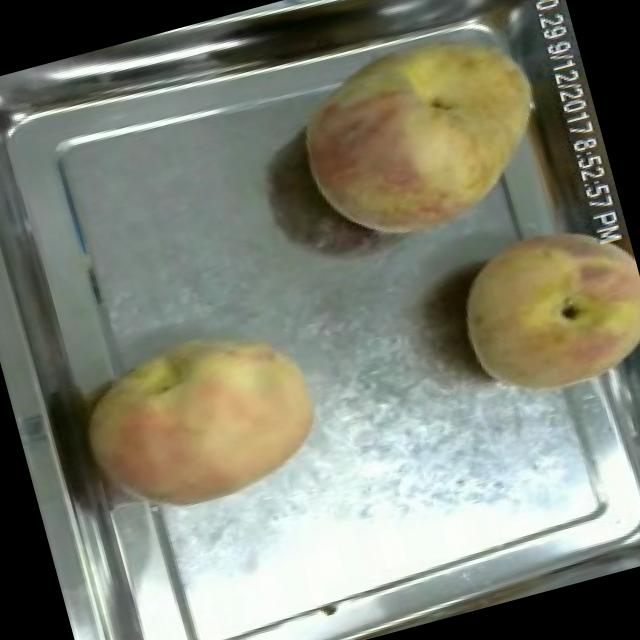Fruit: (269, 0, 573, 268), (58, 298, 344, 540), (435, 200, 640, 419)
